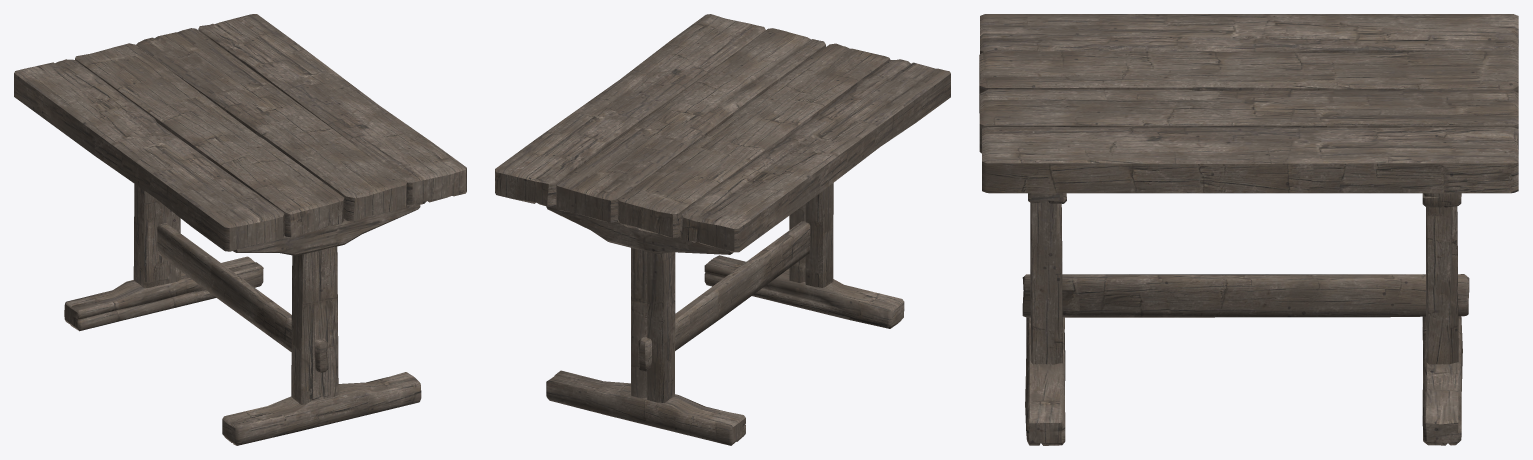
The model's file is Table_C_Wood_A.fbx.
3 renders of one model, left to right at view 1: azimuth 30°, elevation 25°; view 2: azimuth 150°, elevation 25°; view 3: azimuth 270°, elevation 25°, orthographic. The views are drawn at different scales.
Visible parts, largest first — view 1: Table_C_Wood_A; view 2: Table_C_Wood_A; view 3: Table_C_Wood_A.
Part boxes in pixels (bbox=[...]): Table_C_Wood_A: bbox=[14, 14, 466, 445]; Table_C_Wood_A: bbox=[495, 14, 950, 445]; Table_C_Wood_A: bbox=[979, 14, 1518, 445].
Size of the model in its own units: 98.28 by 93.27 by 150.
1 material, 1 textured.
